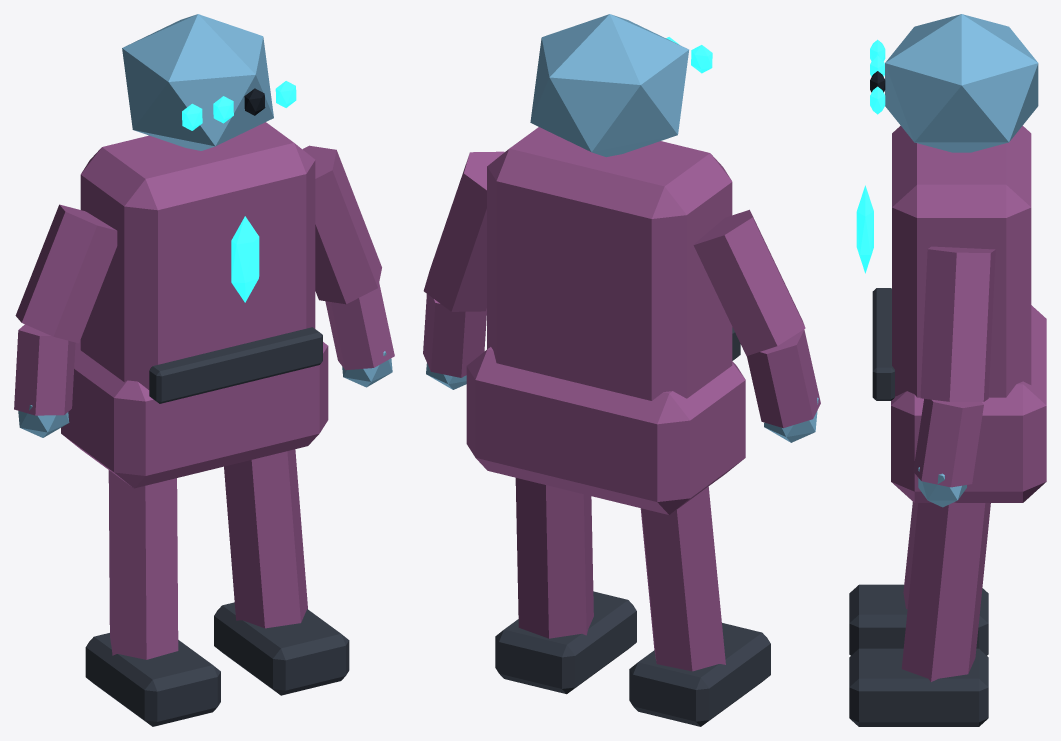
File: npcs_002_seed11.glb
The picture shows the model from 3 angles, left to right: view 1: azimuth 30°, elevation 25°; view 2: azimuth 150°, elevation 25°; view 3: azimuth 270°, elevation 25°; orthographic projection. The views are drawn at different scales.
Parts seen in each view (by area): view 1: npcs_002_seed11; view 2: npcs_002_seed11; view 3: npcs_002_seed11.
Part boxes in pixels (box(x1,y1,x2,y2)): npcs_002_seed11: box(14, 14, 394, 726); npcs_002_seed11: box(423, 14, 820, 726); npcs_002_seed11: box(849, 14, 1046, 726).
Bounding box in the file's own units: 0.9274 × 1.55 × 0.4157.
